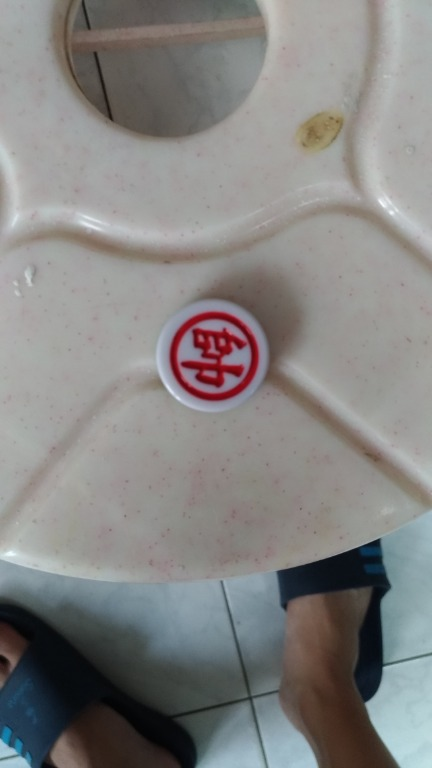r-king: (152, 290, 283, 423)
